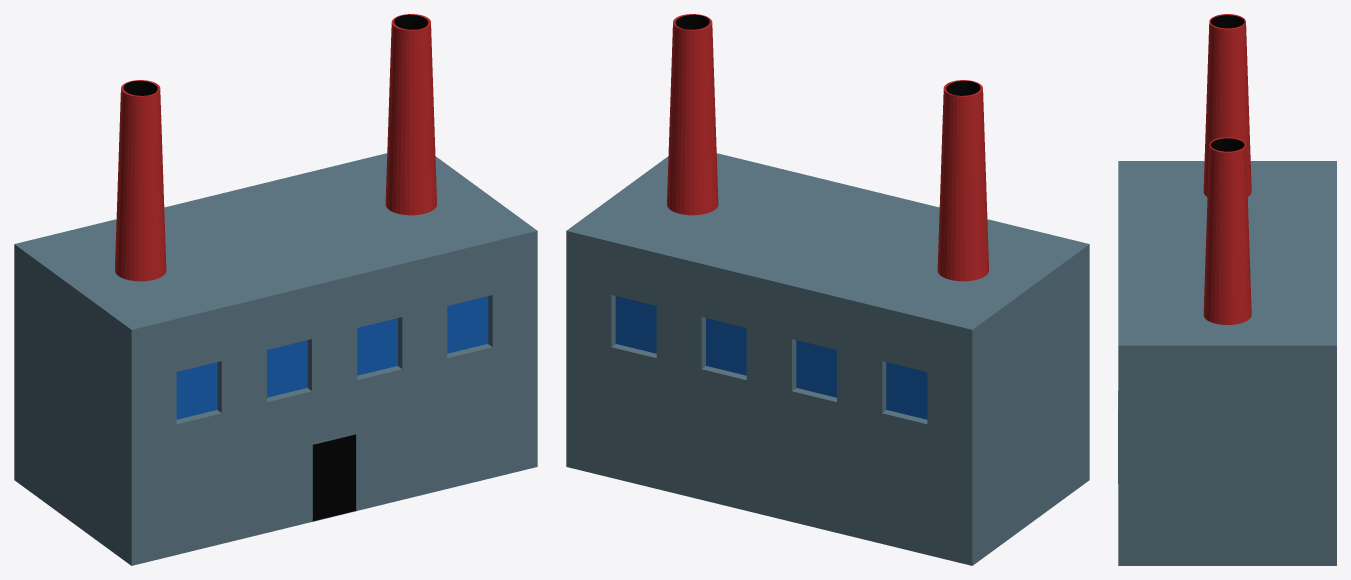
File: FoodFactory.fbx
The picture shows the model from 3 angles, left to right: view 1: azimuth 30°, elevation 25°; view 2: azimuth 150°, elevation 25°; view 3: azimuth 270°, elevation 25°; orthographic projection. The views are drawn at different scales.
Parts seen in each view (by area): view 1: Factory; view 2: Factory; view 3: Factory.
Boxes of the visible parts, x1=… form: Factory: x1=14, y1=14, x2=537, y2=565; Factory: x1=566, y1=14, x2=1089, y2=565; Factory: x1=1118, y1=14, x2=1336, y2=565.
Size of the model in its own units: 1.8 by 1.77 by 0.9011.
